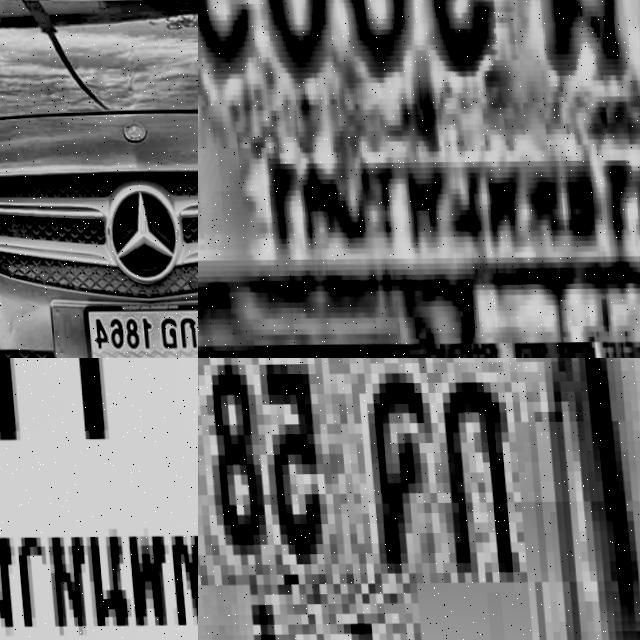license-plate: (198, 0, 640, 343), (198, 358, 640, 640), (0, 358, 198, 640), (73, 297, 198, 358)
